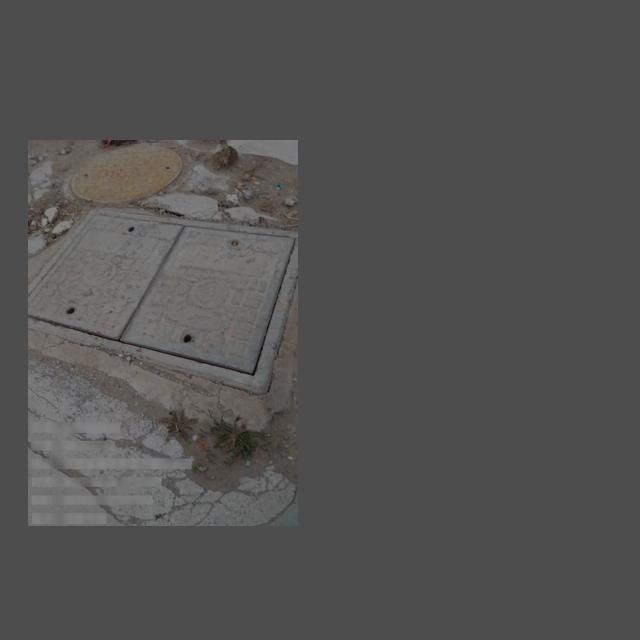good: (28, 207, 298, 393), (70, 143, 183, 202)
